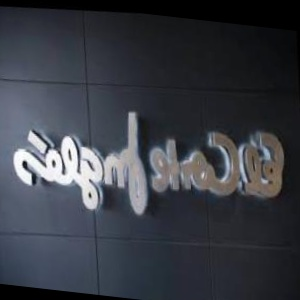corte_ingles: (284, 75, 300, 166)
